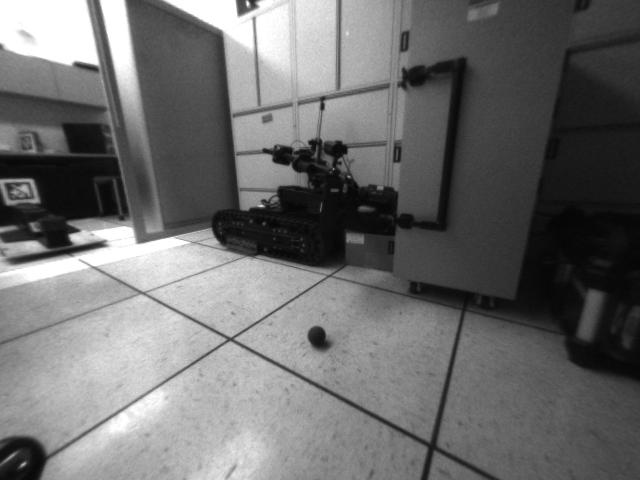dogtoy: (302, 321, 333, 350)
